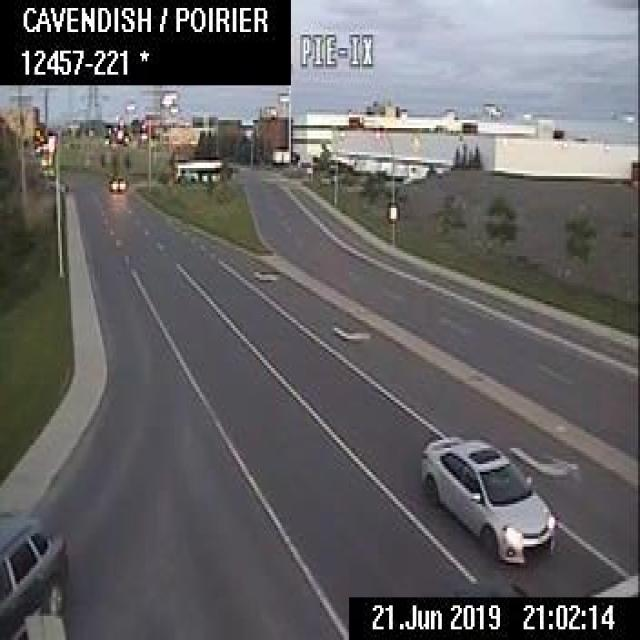bus: (174, 159, 221, 180)
vehicle: (418, 429, 555, 563), (0, 507, 69, 637), (108, 173, 126, 192)
